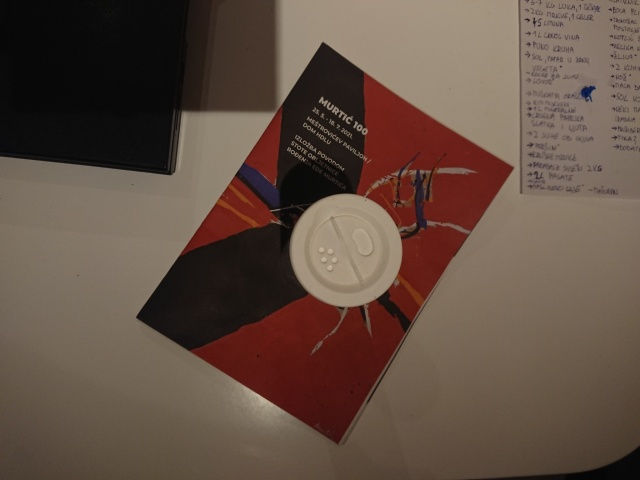Solana Pag Fine Sea Salt 250g: (286, 191, 405, 310)
